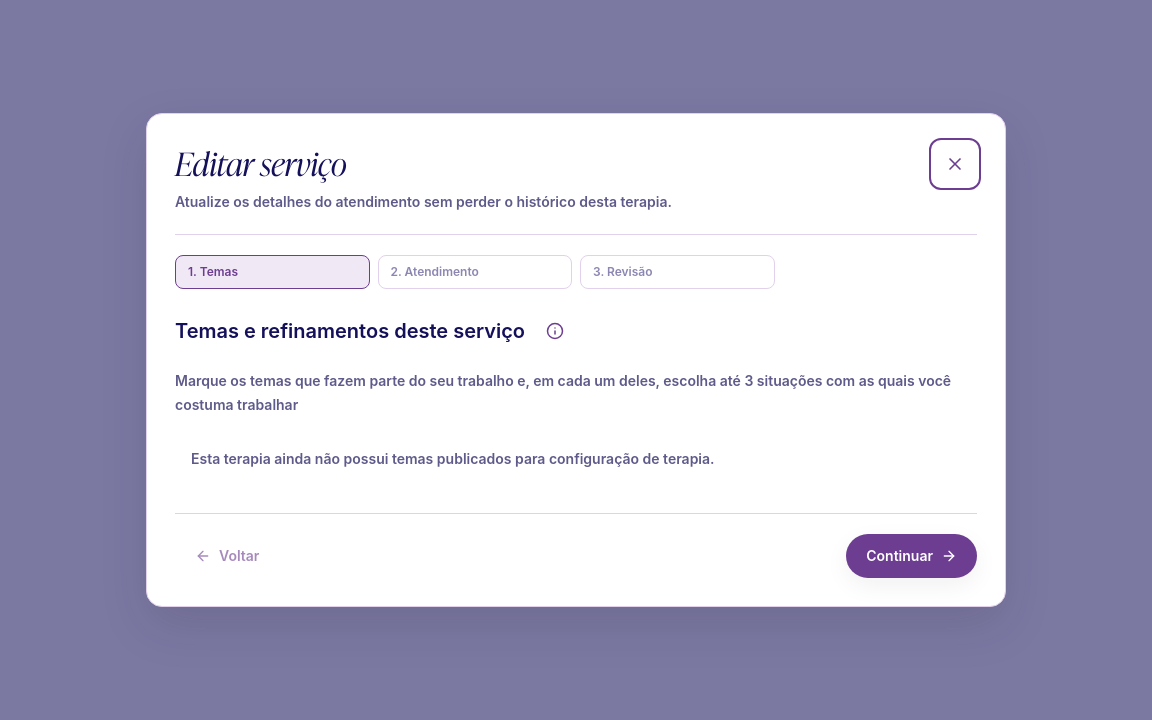
TherapistServicesPage › keeps the dialog open and explains a final save failure
Step 1. Click the button "Continuar" → (912, 556), box [846,534,977,578]
(page scrolled)
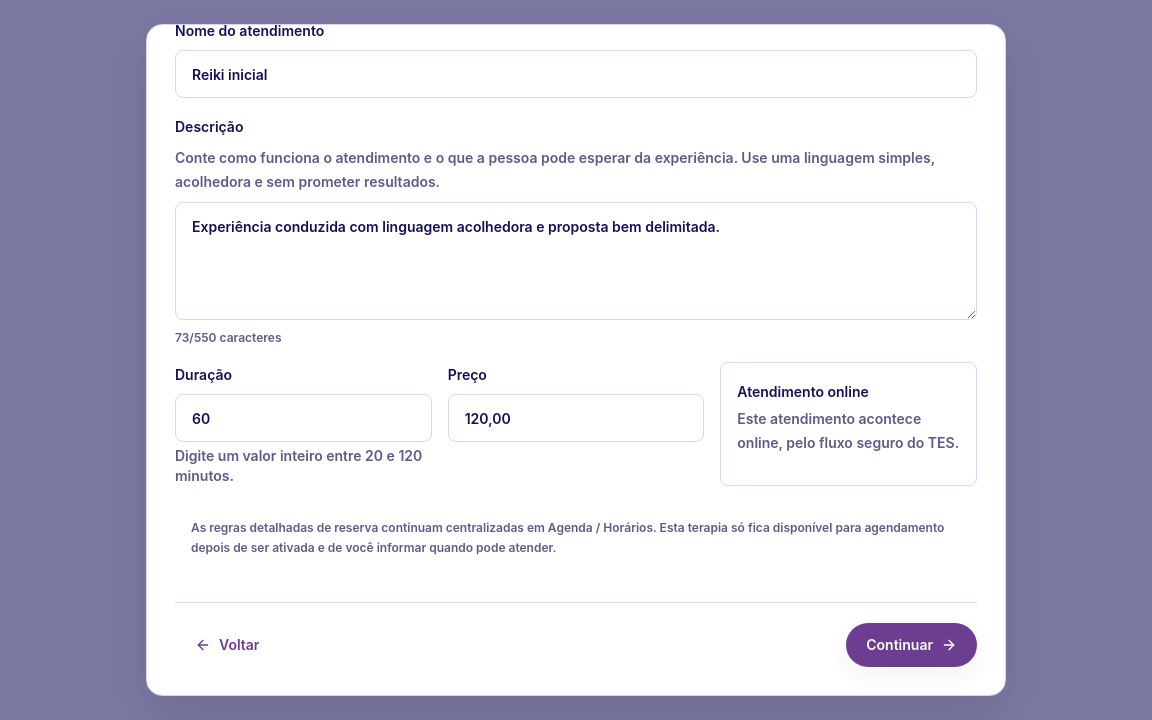
Step 2. Click the button "Continuar" → (912, 645), box [846,623,977,667]
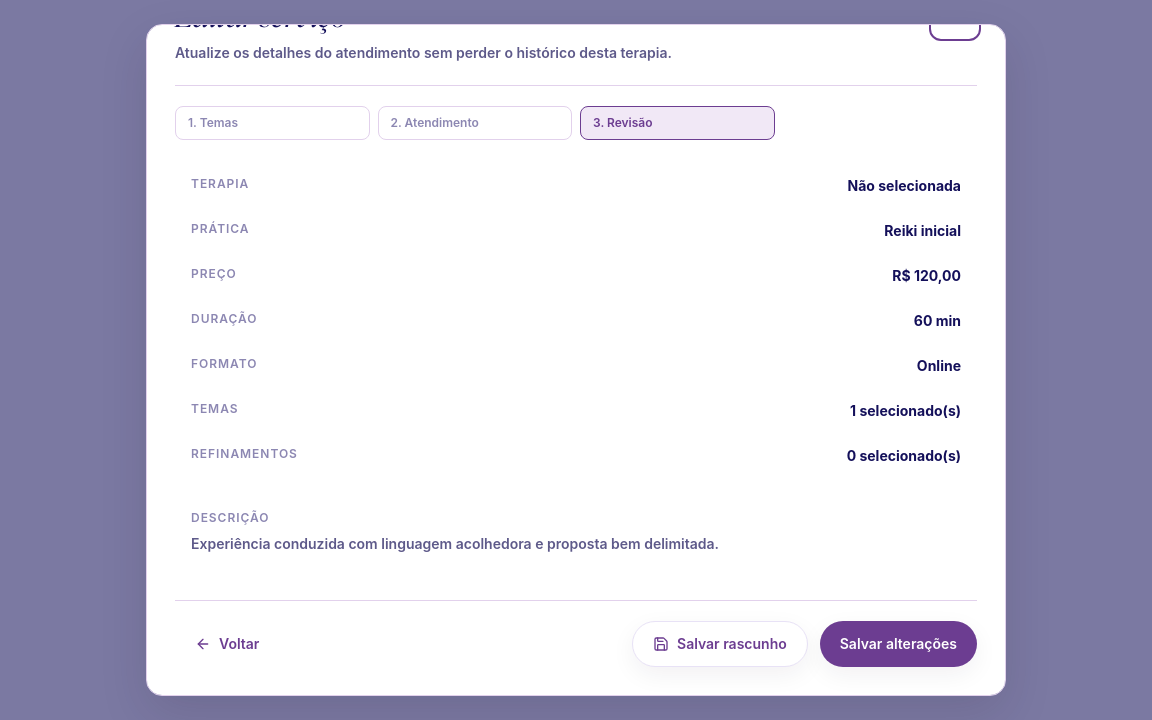
Step 3. Click the button "Salvar alterações" → (898, 644), box [820,621,977,667]
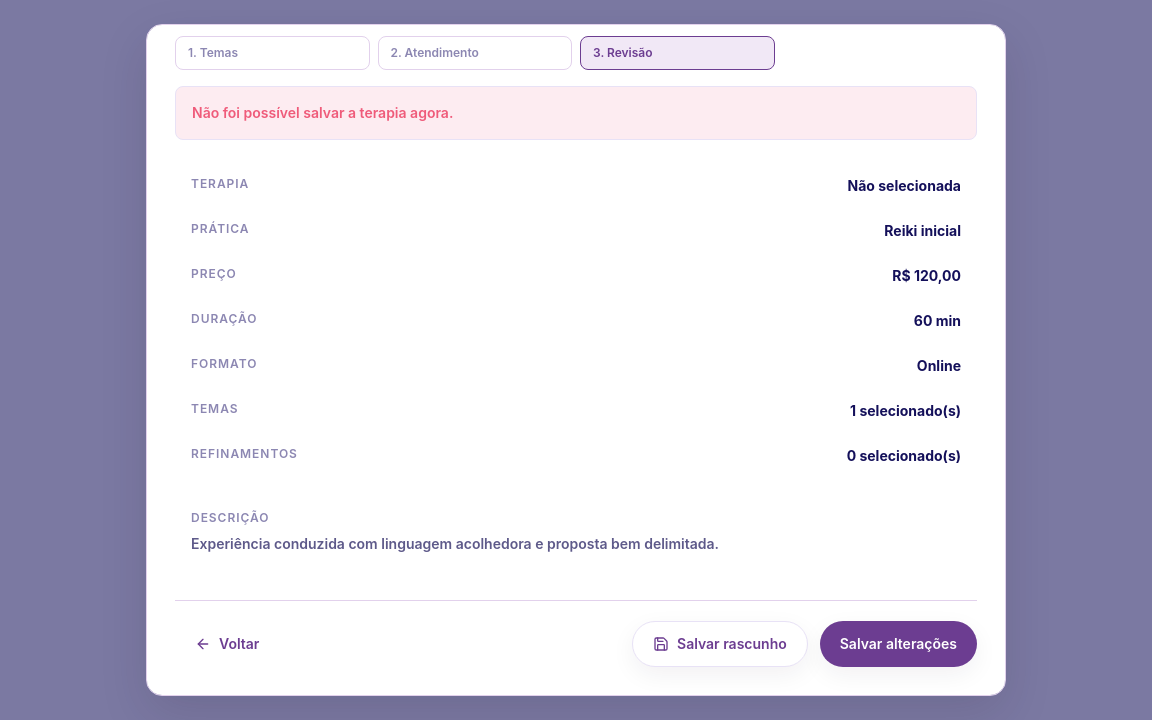
Expected: the message reads "Não foi possível salvar a terapia agora.", [192,104,453,121]
